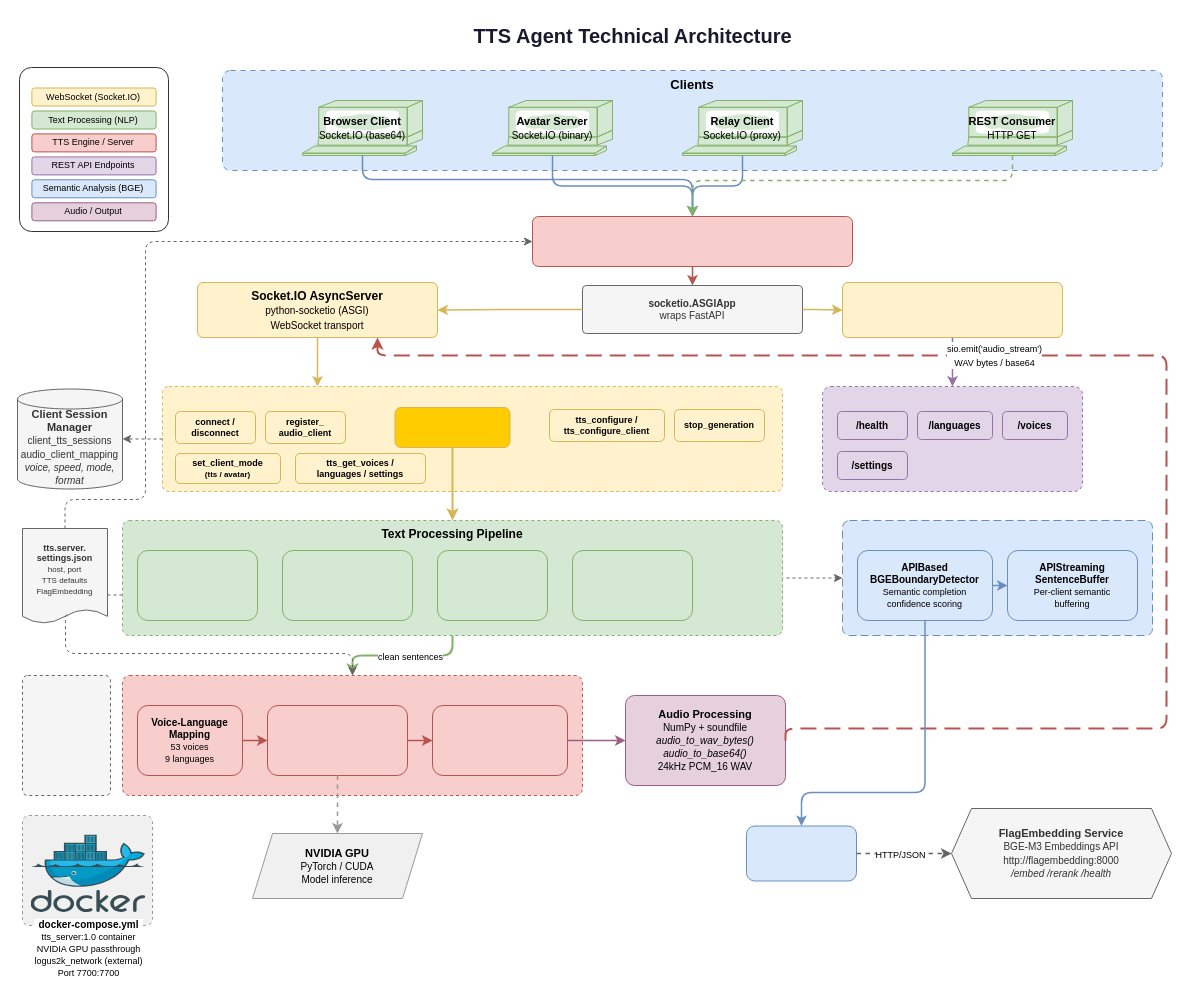
The diagram is 1193 pixels wide and 996 high, and some of its shapes have lost their labels. Each missing label, with the box of its shape:
Audio Generators generate_tts_binary() generate_tts_base64() async generators: (432, 704, 568, 776)
BGE-M3 Boundary Detector (Optional): (842, 520, 1152, 636)
Configuration: (22, 674, 110, 796)
Docker Infrastructure: (22, 814, 152, 926)
FastAPI REST API & Lifespan Manager: (842, 282, 1062, 338)
FlagEmbedding APIClient aiohttp + conn pool: (746, 825, 856, 881)
Idle-Timeout Flush Word-safe timeout flush logic: (436, 550, 548, 620)
Kokoro TTS Engine: (122, 674, 582, 796)
KPipeline Per-language instances Concurrent init Thread-pool execution: (266, 704, 408, 776)
Legend: (18, 66, 168, 232)
Per-Client Text Buffer _tts_buffers _append_stream(): (136, 550, 258, 620)
REST Endpoints: (822, 386, 1082, 492)
Sacremoses Detokenizer Linguistic cleanup (EN / PT): (572, 550, 692, 620)
Socket.IO Event Handlers: (162, 386, 782, 492)
spaCy Sentencizer Rule-based sentence boundary detection: (282, 550, 412, 620)
tts_text_chunk (main pipeline): (394, 406, 510, 448)
Uvicorn ASGI Server 0.0.0.0 : 7700: (532, 216, 852, 266)
